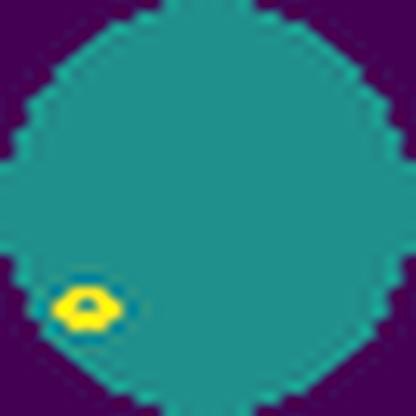Loc: (50, 282, 127, 338)
